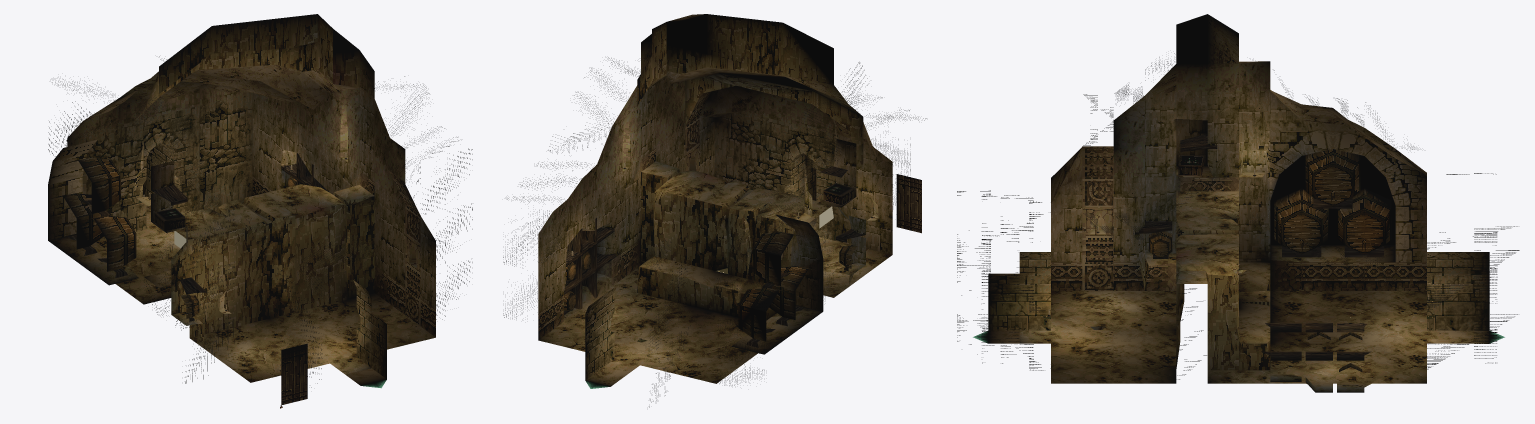
File: MAP016.gltf
3 views of the same model, side by side, from view 1: azimuth 30°, elevation 25°; view 2: azimuth 150°, elevation 25°; view 3: azimuth 270°, elevation 25° (orthographic). The views are drawn at different scales.
Size of the model in its own units: 141 by 133 by 230.
91 materials, 91 textured.
